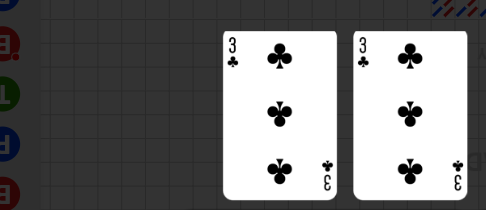3C: (356, 35, 371, 70), (225, 35, 240, 70)
